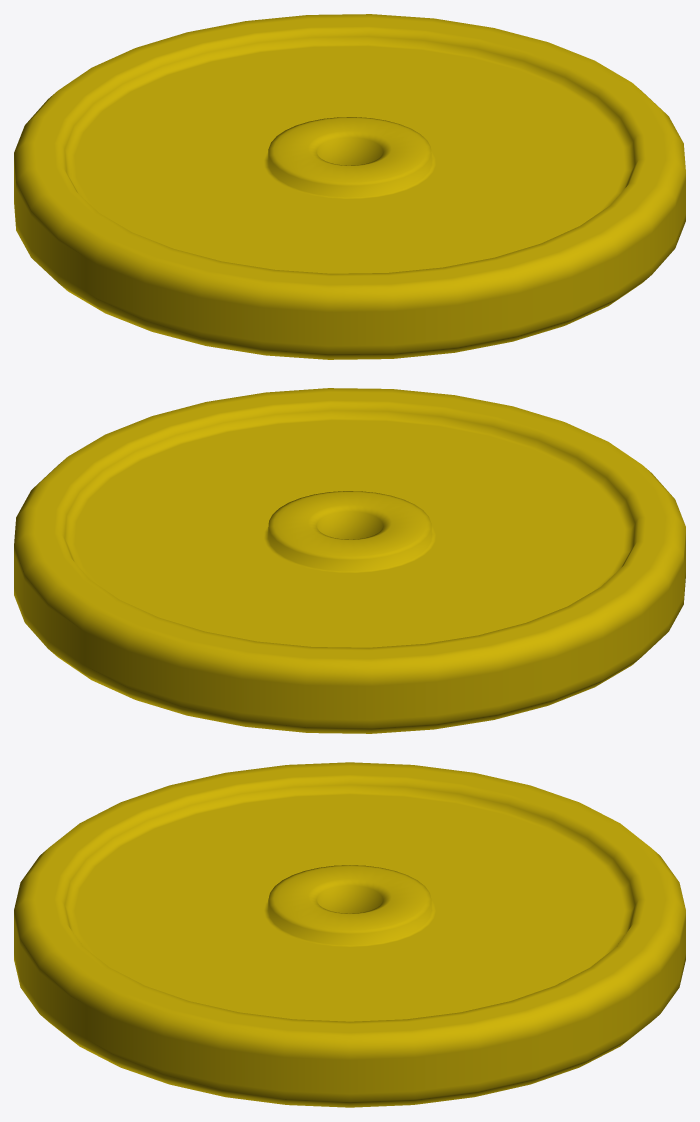
Rendered from Plate2.fbx.
3 views of the same model, one above another, from view 1: azimuth 30°, elevation 25°; view 2: azimuth 150°, elevation 25°; view 3: azimuth 270°, elevation 25° (orthographic).
Parts seen in each view (by area): view 1: Cylinder.014; view 2: Cylinder.014; view 3: Cylinder.014.
Boxes of the visible parts, left/top/right/bottom form: Cylinder.014: left=14, top=14, right=685, bottom=359; Cylinder.014: left=14, top=388, right=685, bottom=733; Cylinder.014: left=14, top=762, right=685, bottom=1107.
Bounding box in the file's own units: 45.97 × 5.8 × 45.97.
